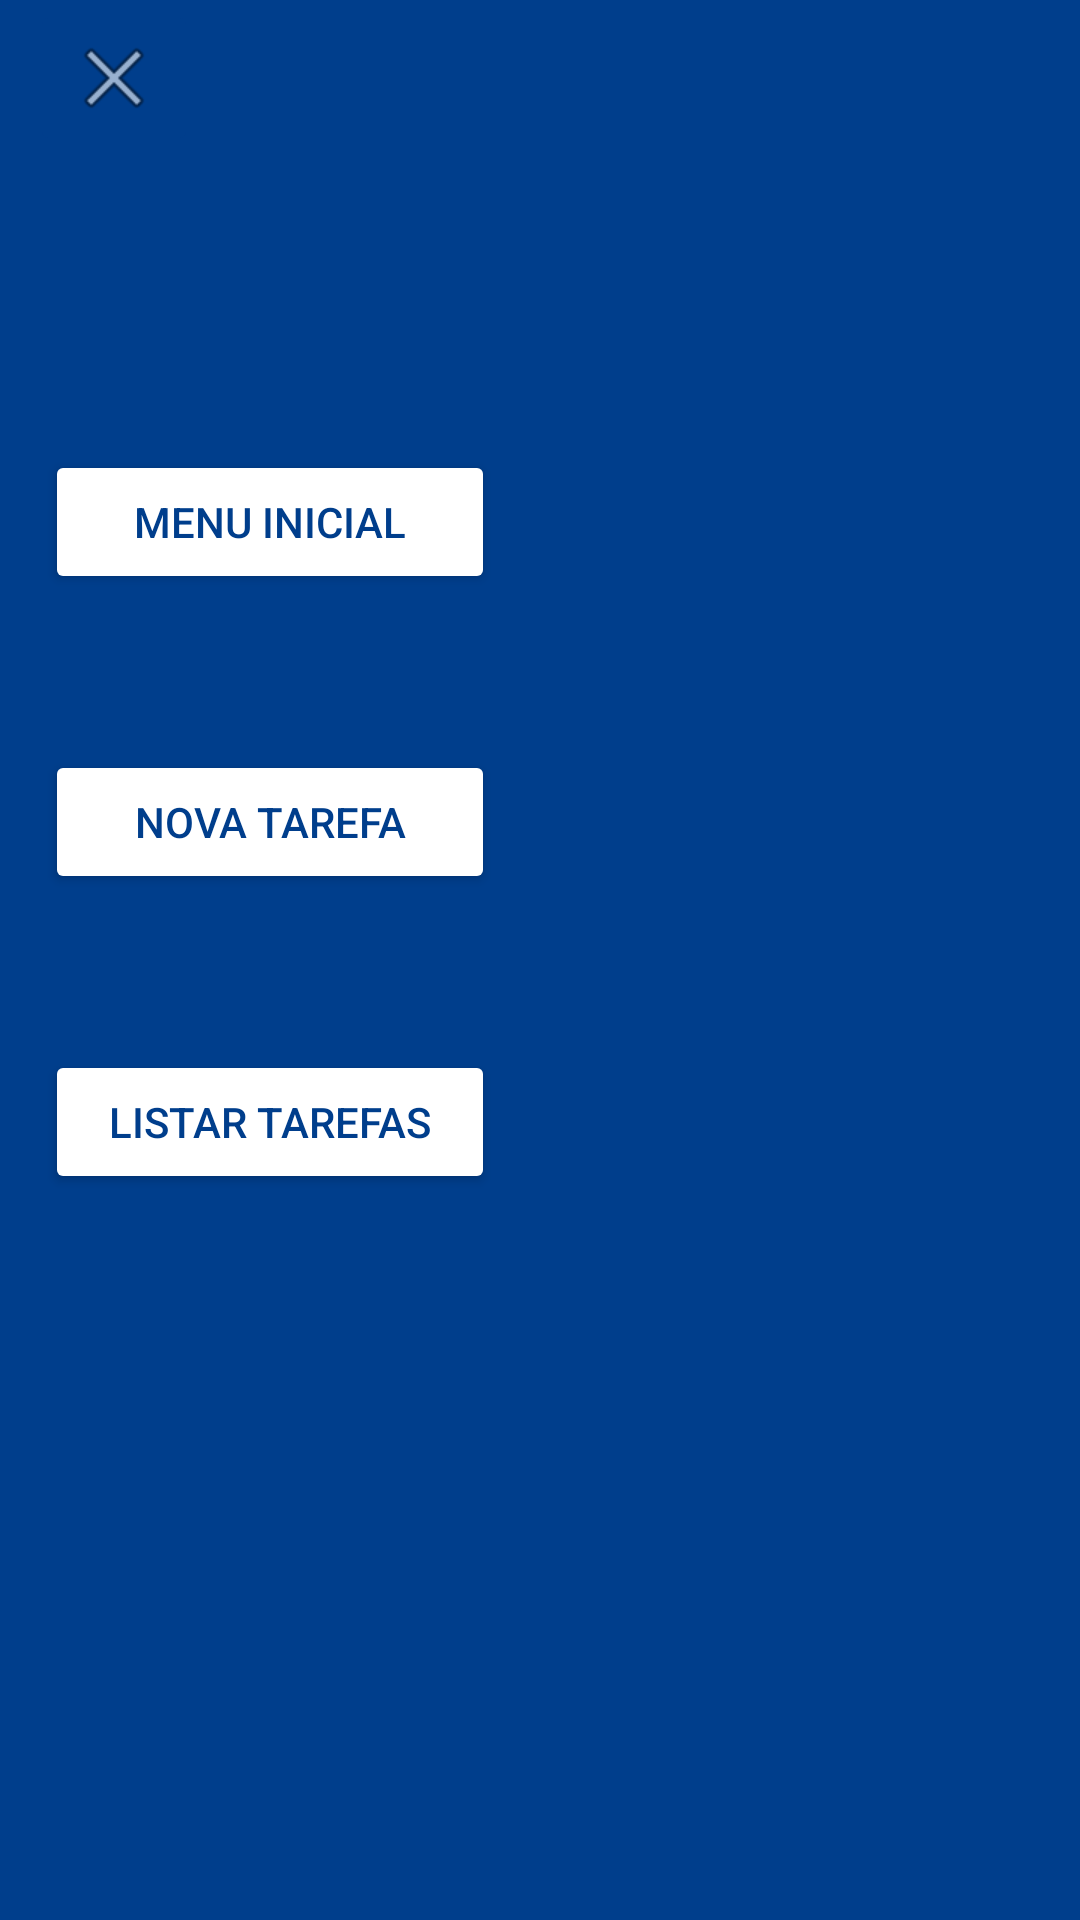

Locate icon controls on the screen. Image size 1080px x 1920px, boxes as (x1, y1, x2, y2).
close clear cancel: (84, 48, 144, 108)
